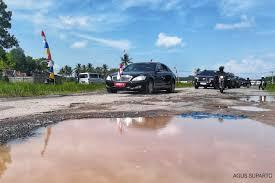Pothole: (0, 112, 275, 183), (214, 90, 275, 115), (51, 88, 86, 117), (132, 90, 164, 109)
